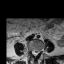CCS_normal: (34, 48, 36, 58)
LFS_normal: (38, 47, 40, 55)
LLS_normal: (36, 48, 38, 56)
RFS_severe_stenosis: (29, 47, 31, 55)
RLS_normal: (31, 47, 34, 56)
